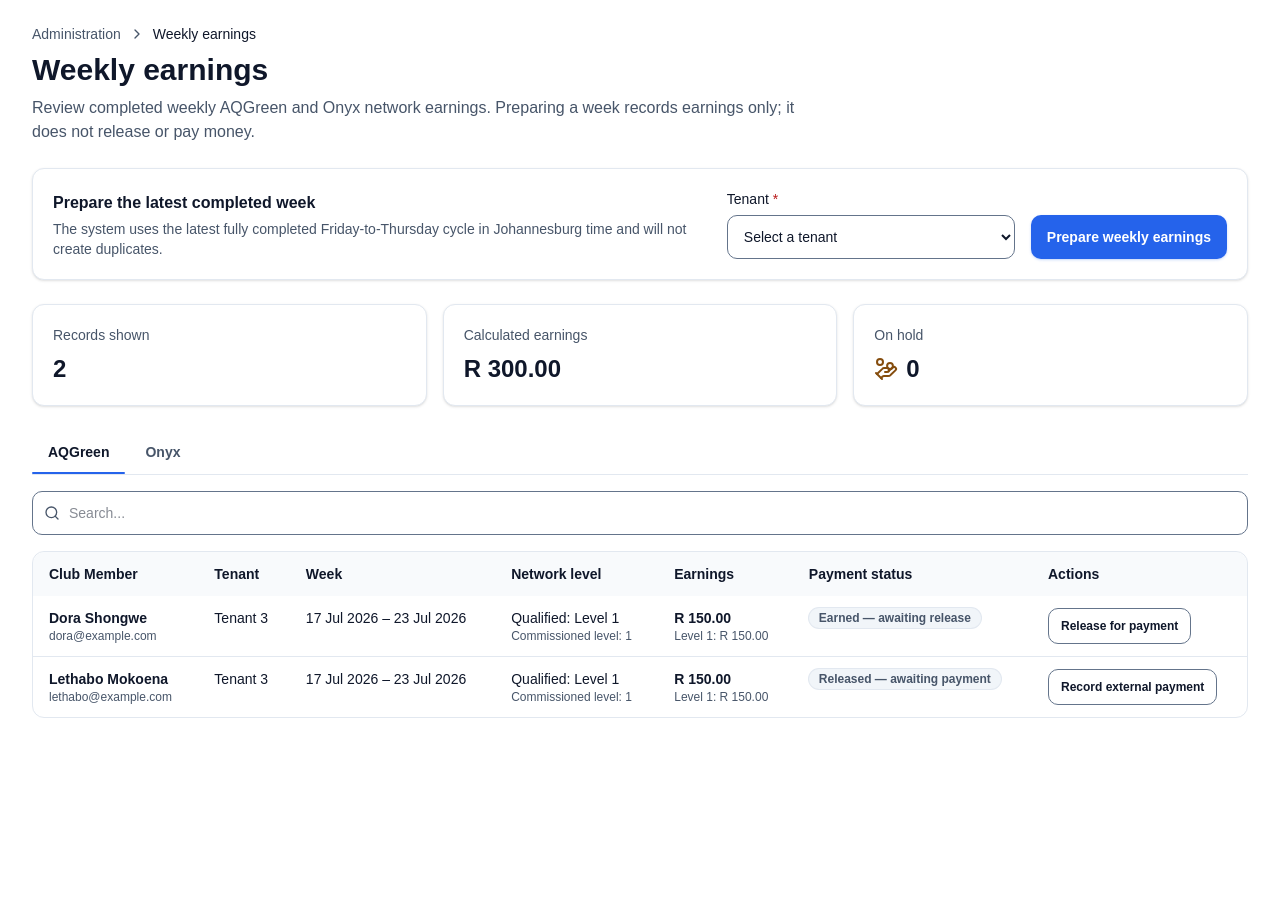
it: AdminWeeklyEarnings › retains valid earnings when a preparation validation error occurs
Expected: the text "Dora Shongwe" is shown, [49, 610, 147, 626]
Click the button "Prepare weekly earnings".
click(1129, 237)  # box [1031, 215, 1227, 259]
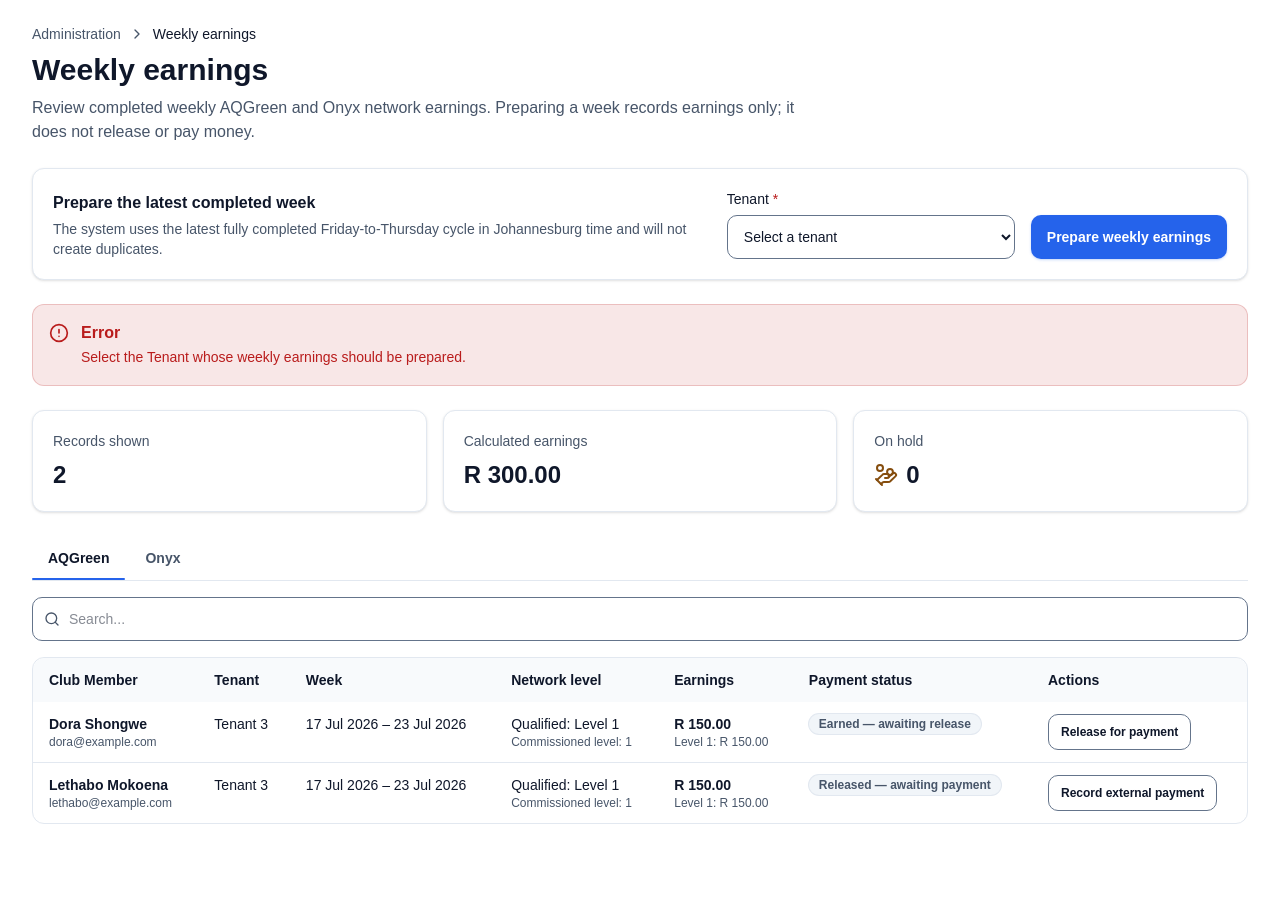
Expected: the table named "AQGreen weekly earnings" is shown, [33, 658, 1247, 823]
Expected: the text "Select the Tenant whose weekly earnings should be prepared." is shown, [81, 345, 466, 369]
